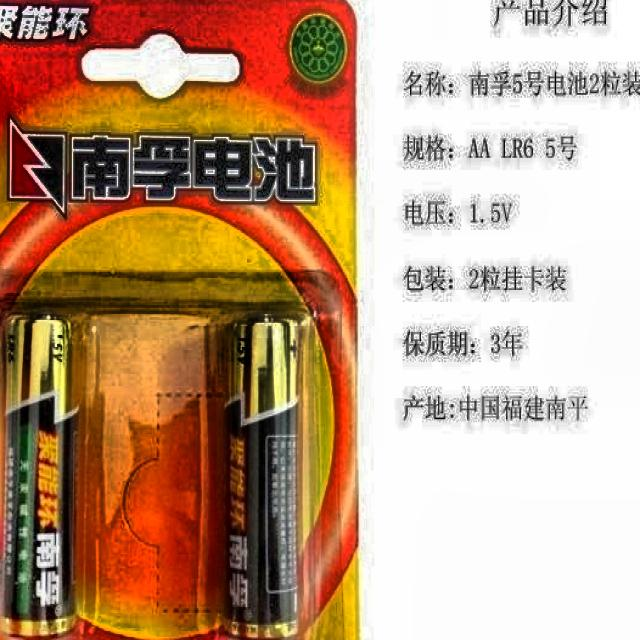Non-Valuable Waste - Batteries: (3, 317, 77, 637), (225, 317, 298, 640)
